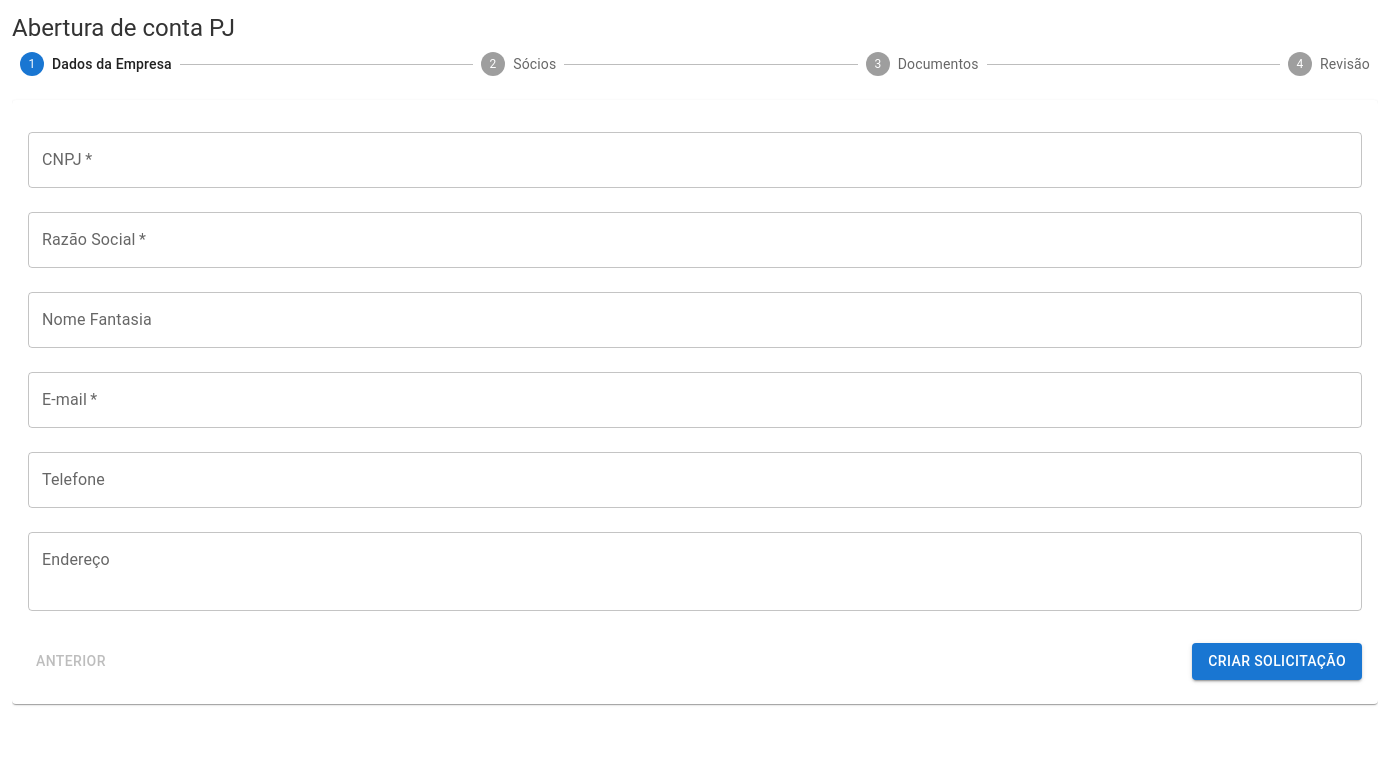
Scenario: shows error when empresa required fields missing
Click the button "Criar solicitação".
click(1277, 662)  # box [1192,643,1362,680]
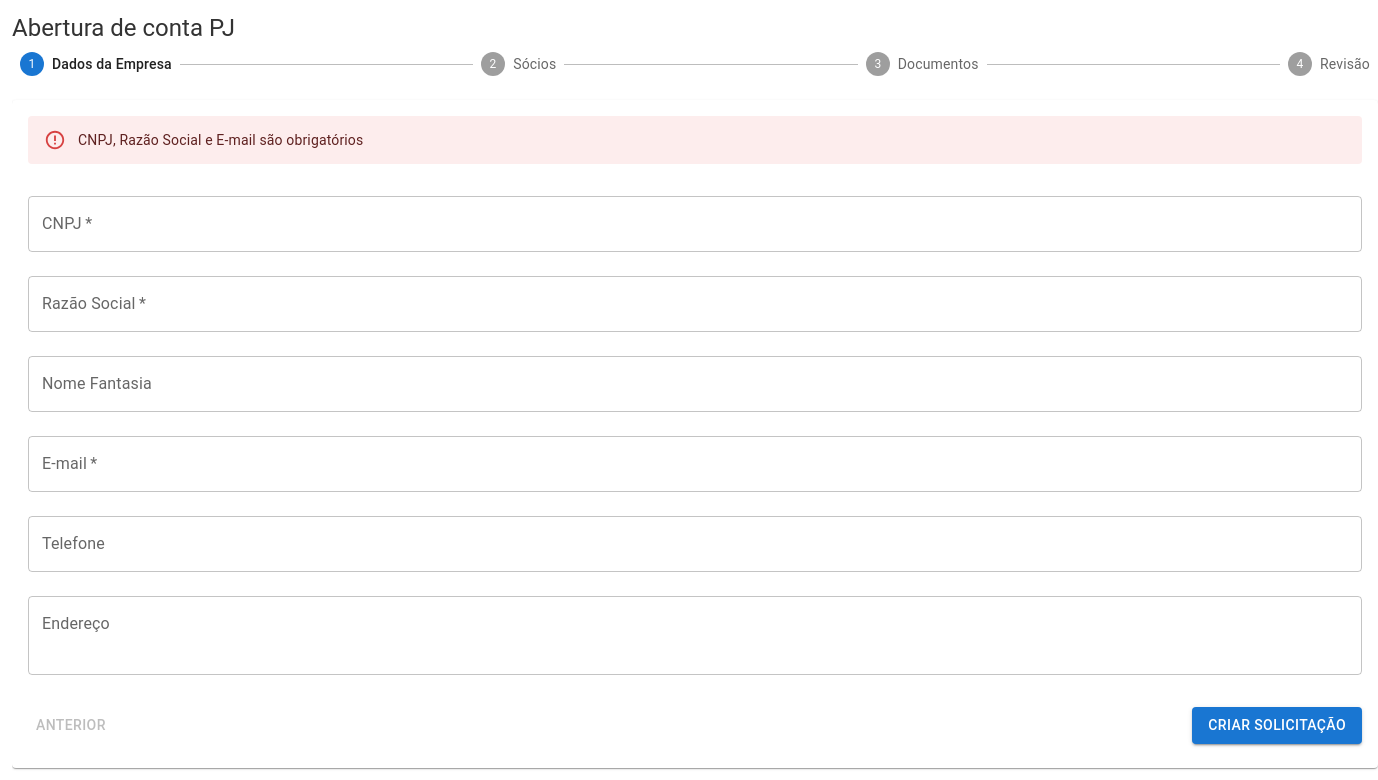
Expected: the text "CNPJ, Razão Social e E-mail são obrigatórios" is shown, [78,132,363,148]
